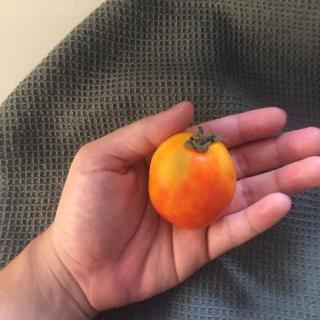Tomat: (141, 125, 240, 230)
